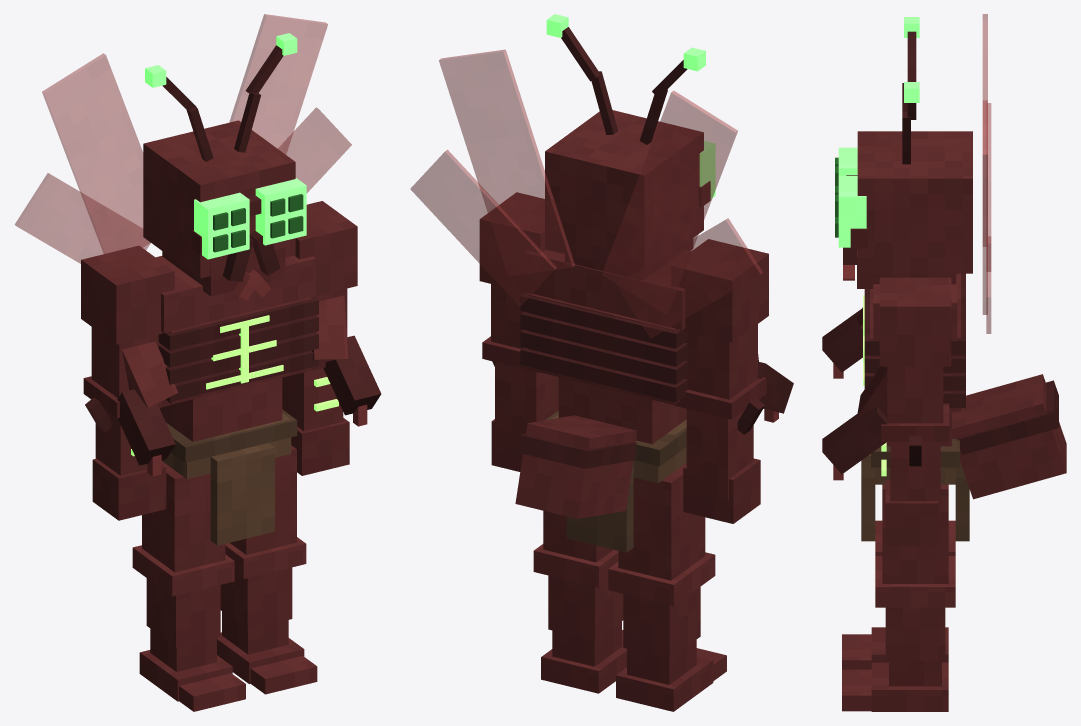
The model's file is insectoid_base_evo1.glb.
3 renders of one model, left to right at view 1: azimuth 30°, elevation 25°; view 2: azimuth 150°, elevation 25°; view 3: azimuth 270°, elevation 25°, orthographic. The views are drawn at different scales.
Parts seen in each view (by area): view 1: Torso, Head, LegR, ArmR, LegL, ArmL; view 2: Torso, Head, ArmR, LegR, ArmL, LegL; view 3: Torso, Head, ArmL, LegL, LegR.
Part boxes in pixels (x1,y1,x2,y2): Torso: (15,14,381,545); Head: (143,33,306,300); LegR: (132,461,245,711); ArmR: (81,245,174,520); LegL: (217,445,317,694); ArmL: (282,201,357,475); Torso: (410,49,793,552); Head: (545,14,715,280); ArmR: (671,239,768,523); LegR: (608,463,726,711); ArmL: (479,192,558,471); LegL: (533,511,626,693); Torso: (822,14,1066,541); Head: (835,17,972,288); ArmL: (879,277,951,546); LegL: (842,484,955,711); LegR: (842,520,955,669).
Size of the model in its own units: 1.12 by 1.98 by 0.699.
Materials: 23 (23 with a texture image).
